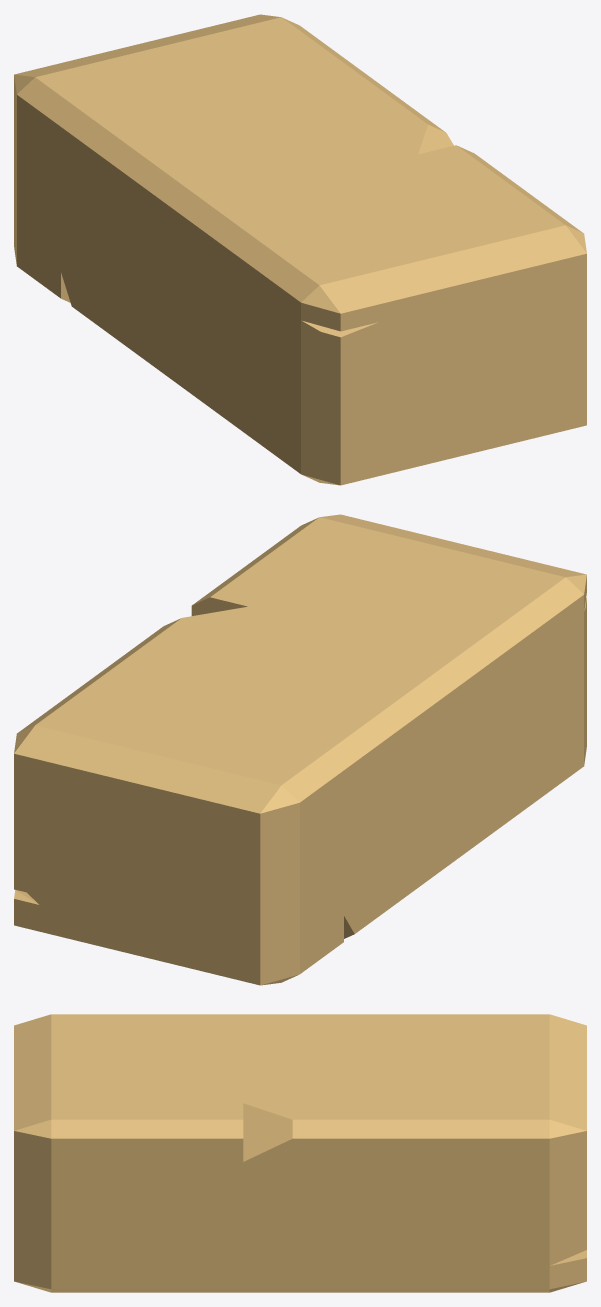
File: Stone.fbx
3 views of the same model, one above another, from view 1: azimuth 30°, elevation 25°; view 2: azimuth 150°, elevation 25°; view 3: azimuth 270°, elevation 25° (orthographic). The views are drawn at different scales.
Visible parts, largest first — view 1: atılacak-tas; view 2: atılacak-tas; view 3: atılacak-tas.
Boxes of the visible parts, left/top/right/bottom form: atılacak-tas: left=14, top=14, right=586, bottom=485; atılacak-tas: left=14, top=514, right=586, bottom=985; atılacak-tas: left=14, top=1014, right=586, bottom=1292.
Size of the model in its own units: 300 by 200 by 600.
